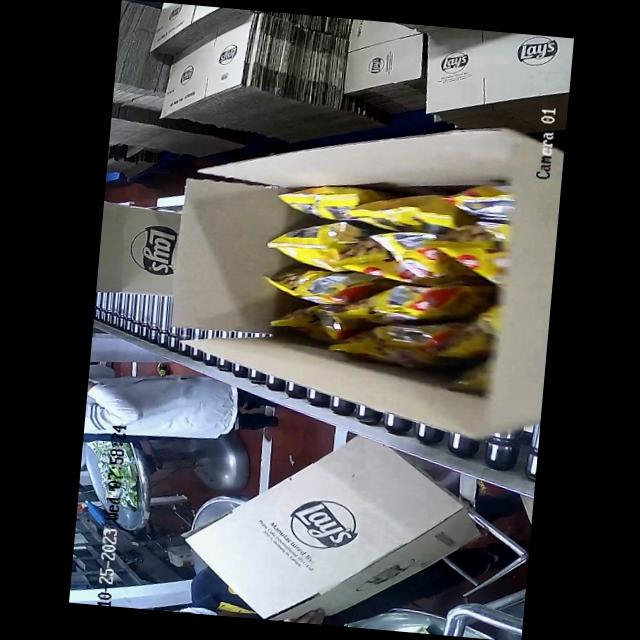salted: (248, 174, 502, 376)
